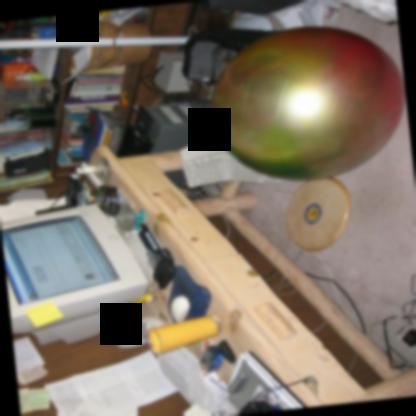backpack: (177, 26, 278, 79)
